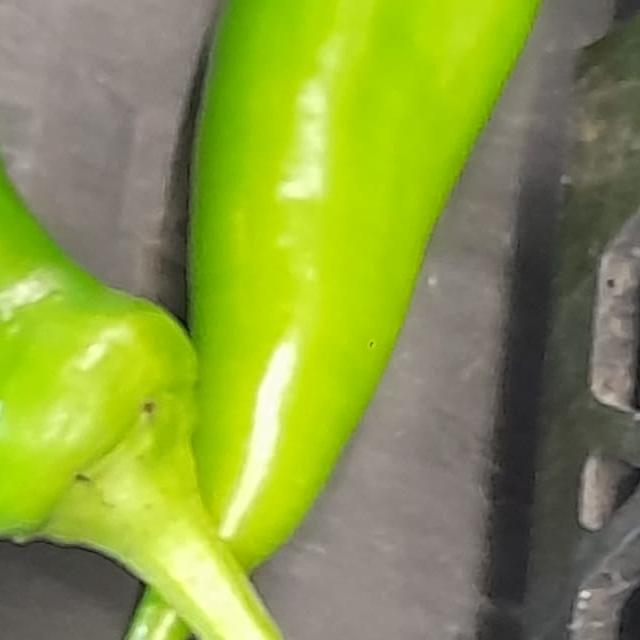chili_pepper: (106, 0, 639, 640), (0, 0, 393, 640)
